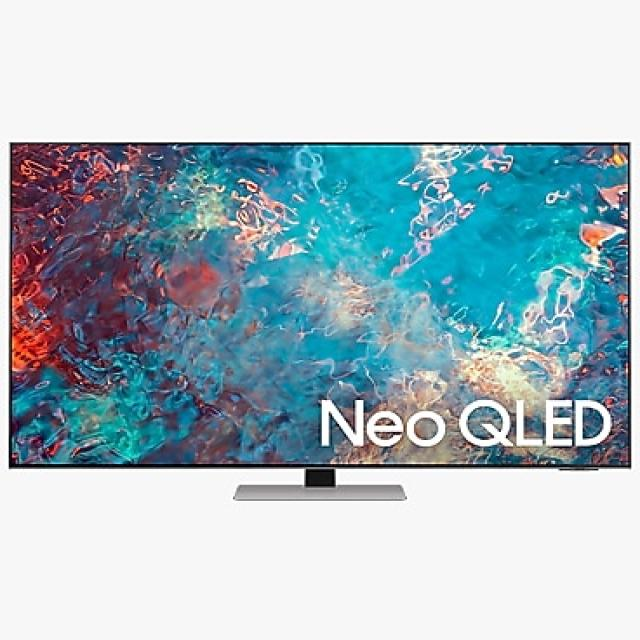electronics: (10, 142, 628, 464), (456, 400, 609, 443), (320, 400, 443, 445), (231, 467, 402, 498), (231, 483, 403, 498)
